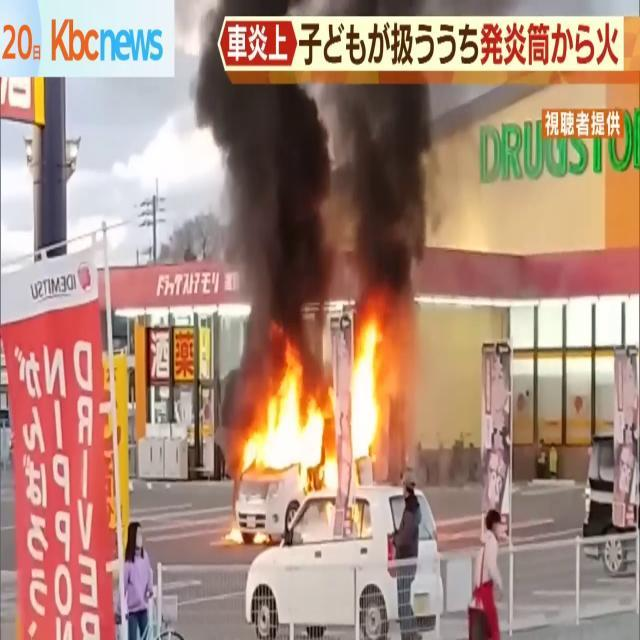Fire: (236, 303, 394, 504)
Smoke: (178, 84, 454, 310)
